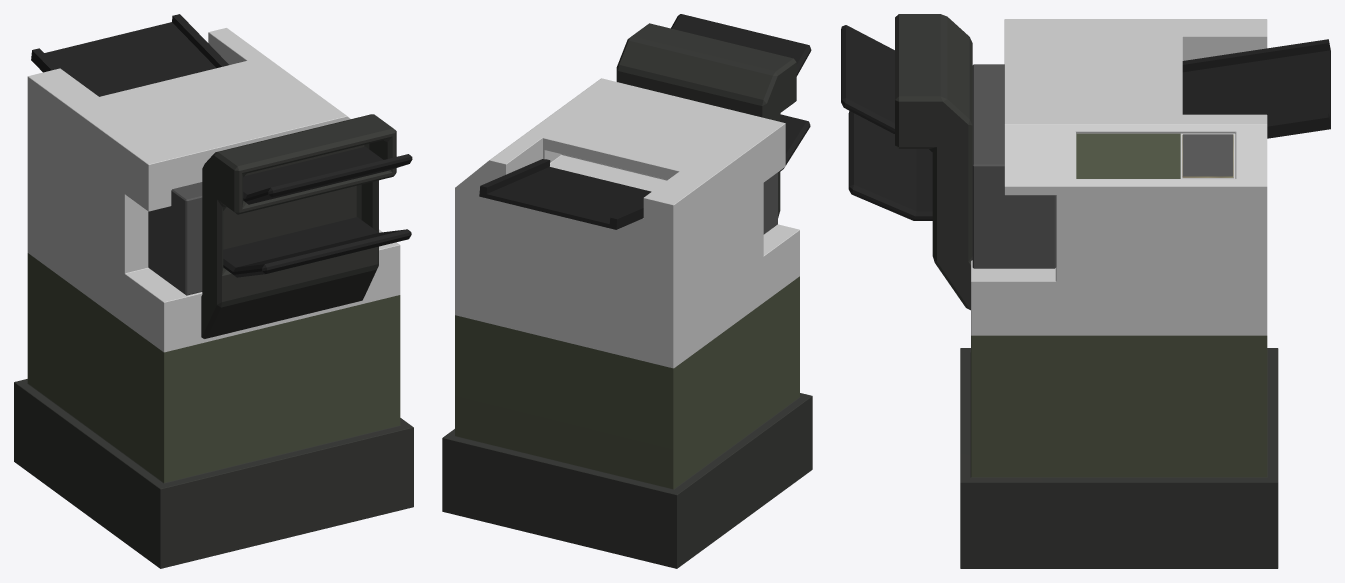
The model's file is printer.glb.
3 renders of one model, left to right at view 1: azimuth 30°, elevation 25°; view 2: azimuth 150°, elevation 25°; view 3: azimuth 270°, elevation 25°, orthographic. The views are drawn at different scales.
Parts seen in each view (by area): view 1: printer; view 2: printer; view 3: printer.
Boxes of the visible parts, x1,y1,x2,y2 form: printer: (14,14,413,568); printer: (442,14,812,568); printer: (841,14,1330,568).
Bounding box in the file's own units: 0.7136 × 1.11 × 1.1.
Materials: 1 (1 with a texture image).
